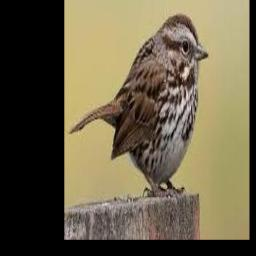Sparrow: (69, 14, 208, 198)
